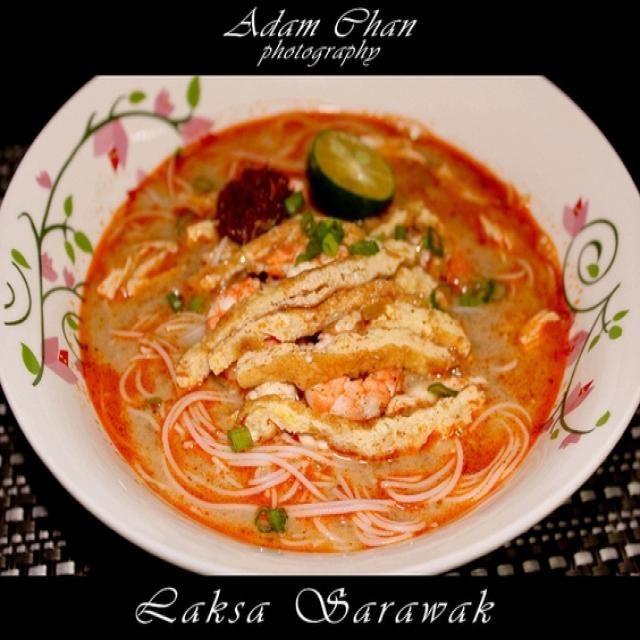面条主食: (64, 87, 586, 565)
